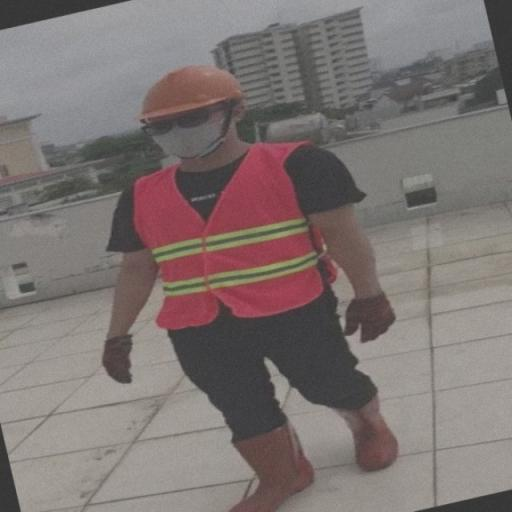Person: (93, 71, 423, 505)
boots: (218, 417, 322, 512), (330, 378, 400, 478)
gloves: (336, 295, 400, 347), (94, 332, 140, 390)
goggles: (143, 100, 240, 133)
helmet: (134, 66, 252, 124)
vest: (128, 143, 344, 326)
